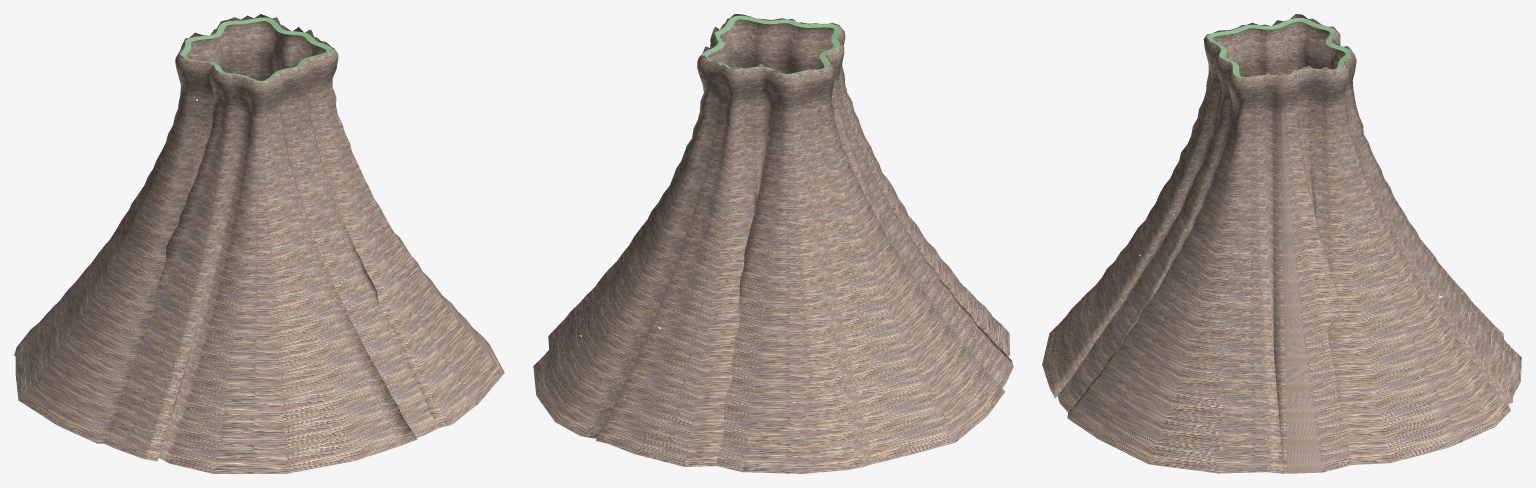
Rendered from CliffWall_stack_01.glb.
The picture shows the model from 3 angles, left to right: view 1: azimuth 30°, elevation 25°; view 2: azimuth 150°, elevation 25°; view 3: azimuth 270°, elevation 25°; orthographic projection.
Parts seen in each view (by area): view 1: CliffWall_stack_01-rock0, CliffWall_stack_01-lip0; view 2: CliffWall_stack_01-rock0, CliffWall_stack_01-lip0; view 3: CliffWall_stack_01-rock0, CliffWall_stack_01-lip0.
Part boxes in pixels (bbox=[...]): CliffWall_stack_01-rock0: bbox=[14, 14, 504, 473]; CliffWall_stack_01-lip0: bbox=[180, 17, 332, 82]; CliffWall_stack_01-rock0: bbox=[533, 14, 1013, 473]; CliffWall_stack_01-lip0: bbox=[702, 15, 840, 75]; CliffWall_stack_01-rock0: bbox=[1042, 14, 1521, 473]; CliffWall_stack_01-lip0: bbox=[1207, 18, 1351, 78].
Size of the model in its own units: 656 by 495 by 655.
4 materials, 1 textured.
